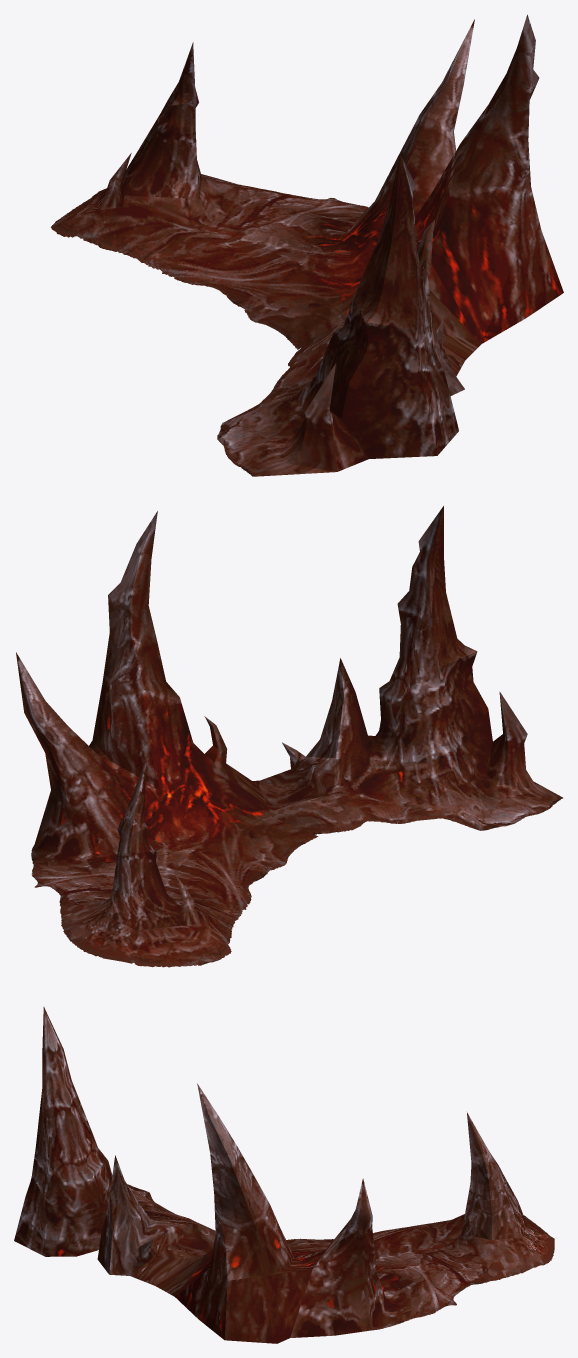
File: hs_shan_4.FBX
3 renders of one model, top to bottom at view 1: azimuth 30°, elevation 25°; view 2: azimuth 150°, elevation 25°; view 3: azimuth 270°, elevation 25°, orthographic. The views are drawn at different scales.
Visible parts, largest first — view 1: hs_shan_4; view 2: hs_shan_4; view 3: hs_shan_4.
Part boxes in pixels (bbox=[...]): hs_shan_4: bbox=[51, 14, 563, 476]; hs_shan_4: bbox=[16, 506, 562, 967]; hs_shan_4: bbox=[14, 1006, 554, 1343].
Size of the model in its own units: 540 by 357 by 751.
